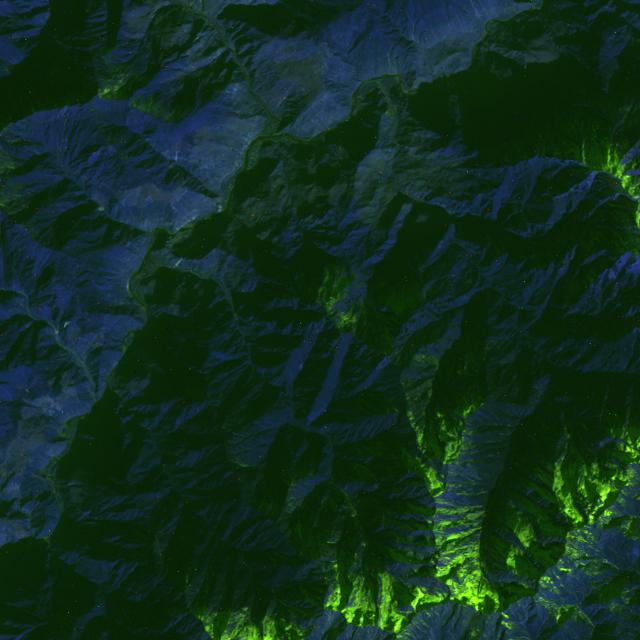landslides: (455, 607, 483, 640), (211, 355, 246, 375), (435, 600, 456, 632), (448, 462, 482, 481), (539, 14, 557, 43), (517, 595, 535, 624), (450, 605, 462, 640), (577, 605, 594, 629), (600, 559, 624, 575), (487, 612, 501, 637), (413, 617, 428, 637), (476, 409, 496, 424), (125, 357, 155, 367), (536, 615, 549, 638), (595, 0, 613, 16), (477, 0, 491, 20), (470, 0, 482, 23), (59, 118, 67, 151), (409, 622, 422, 640), (468, 509, 489, 520), (297, 521, 303, 558), (509, 603, 523, 618), (173, 251, 184, 269), (526, 53, 542, 65), (404, 626, 417, 640), (56, 321, 69, 333), (504, 610, 516, 623), (0, 453, 9, 469), (372, 627, 383, 640), (448, 475, 460, 486), (28, 502, 39, 514), (175, 270, 185, 283), (633, 540, 640, 558), (98, 87, 110, 97), (546, 222, 560, 230), (466, 476, 477, 486), (472, 413, 483, 423), (58, 350, 70, 359), (394, 47, 398, 74), (106, 356, 119, 364), (335, 108, 345, 118), (569, 630, 579, 640)
